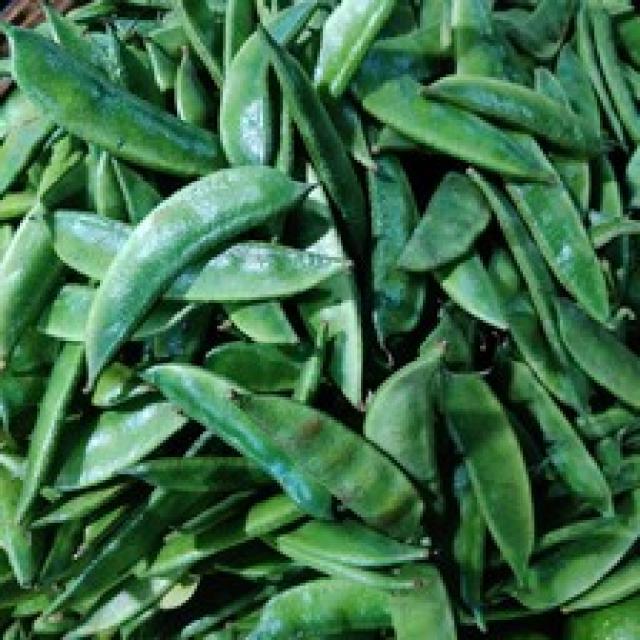Bean: (0, 0, 637, 637), (80, 160, 309, 394)
